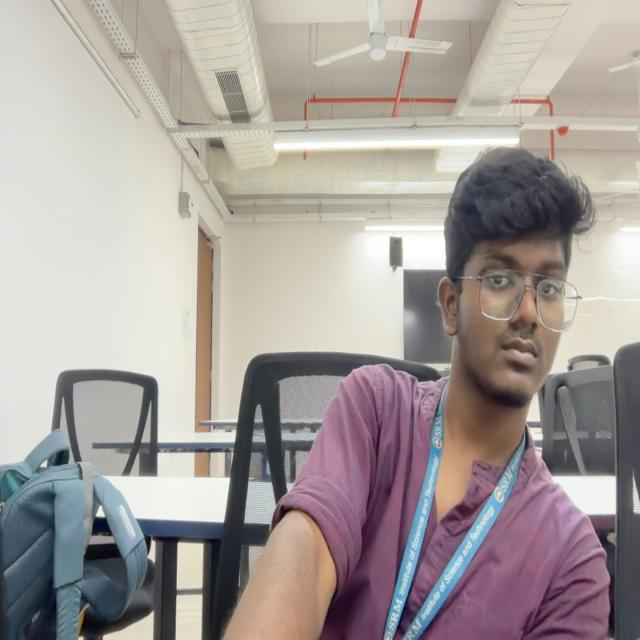ravindra: (437, 146, 591, 408)
